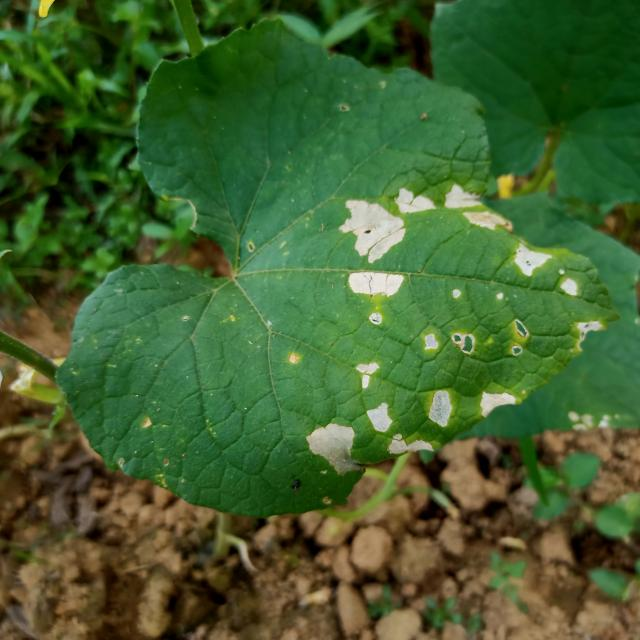disease_cucumber: (346, 205, 406, 295), (367, 405, 436, 456), (304, 418, 358, 476), (517, 243, 577, 293), (447, 185, 499, 229), (422, 328, 480, 357), (476, 386, 519, 419), (426, 388, 453, 428), (397, 190, 432, 214), (353, 358, 378, 391)
